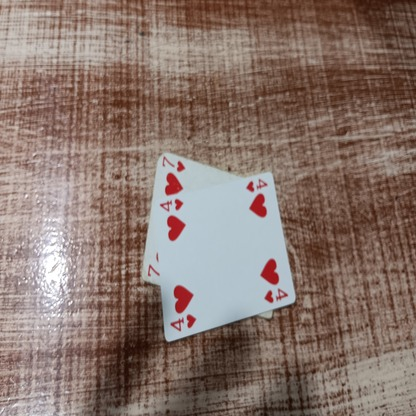4h: (168, 314, 197, 334), (261, 286, 289, 305), (244, 175, 268, 196), (159, 197, 183, 212)
7h: (161, 153, 186, 174)
